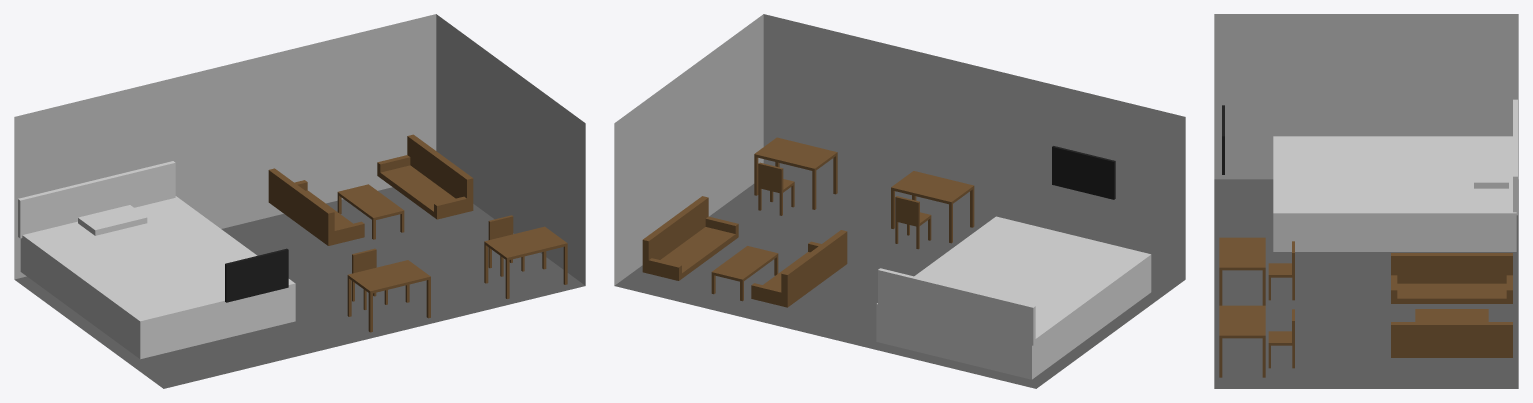
File: nopartitionroom.glb
3 views of the same model, side by side, from view 1: azimuth 30°, elevation 25°; view 2: azimuth 150°, elevation 25°; view 3: azimuth 270°, elevation 25° (orthographic).
Parts seen in each view (by area): view 1: walls, floor, Bed, Sofa, TableChair, BedHead, led_tv, Pillow; view 2: walls, floor, Bed, Sofa, BedHead, TableChair, led_tv; view 3: walls, floor, Bed, Sofa, TableChair, Pillow, BedHead.
Part boxes in pixels (x1,y1,x2,y2): walls: (14,14,585,285); floor: (14,187,585,388); Bed: (20,196,295,359); Sofa: (268,134,473,245); TableChair: (347,215,567,332); BedHead: (18,161,175,238); led_tv: (225,248,288,302); Pillow: (78,205,147,235); walls: (614,14,1185,285); floor: (614,184,1185,388); Bed: (876,216,1151,379); Sofa: (642,196,847,307); BedHead: (878,268,1035,345); TableChair: (754,137,974,249); led_tv: (1052,146,1115,199); walls: (1214,14,1518,179); floor: (1214,179,1518,388); Bed: (1273,136,1516,251); Sofa: (1391,253,1512,357); TableChair: (1219,237,1294,377); Pillow: (1474,157,1508,188); BedHead: (1513,99,1517,215).
Bounding box in the file's own units: 8.15 × 3 × 5.
